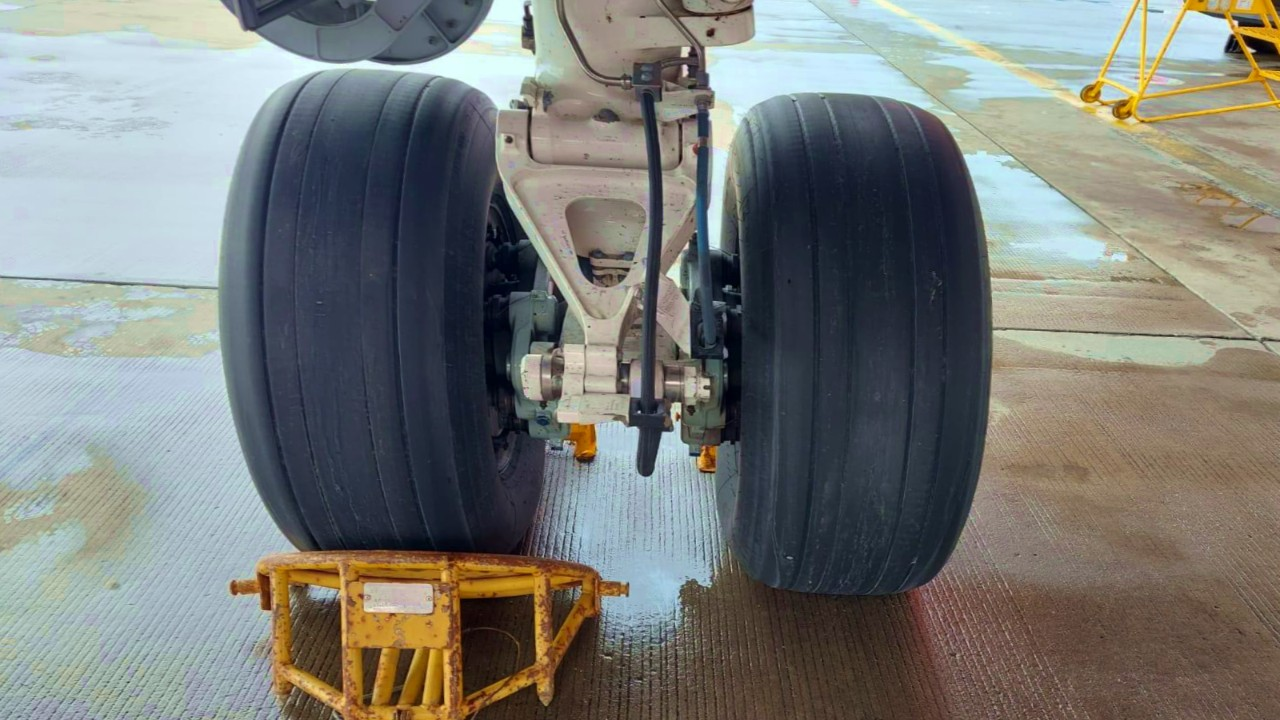chock: (221, 538, 645, 720)
wheel: (198, 62, 558, 554), (690, 82, 1019, 612)
